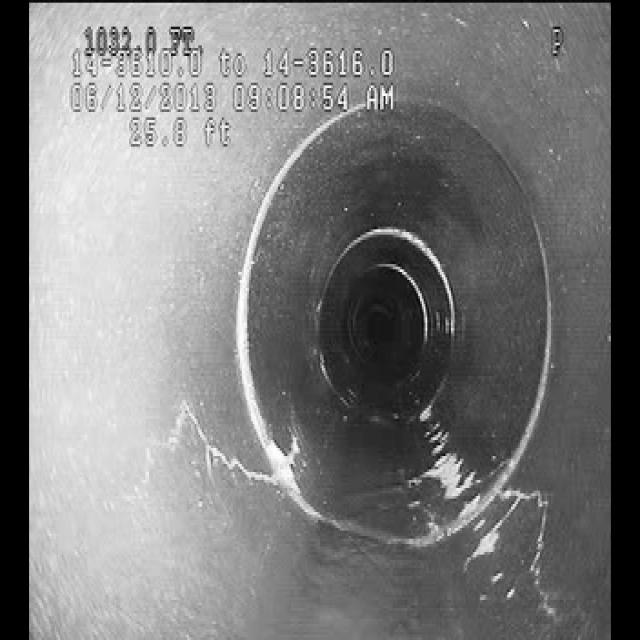Crack: (130, 376, 234, 496)
